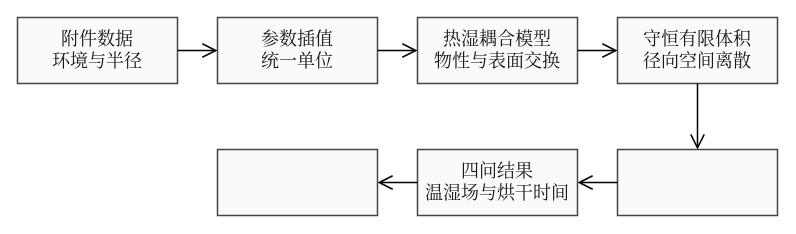
Some shapes in this 796 by 234 pixel diagram are drawn without their labels. The shapes that lost their labels are listed below. From the top down, each one's centre as x and y in pixels, then its label:
At [297,182]: "模型检验 守恒、解析与加密".
At [697,182]: "隐式BDF积分 状态与事件".
